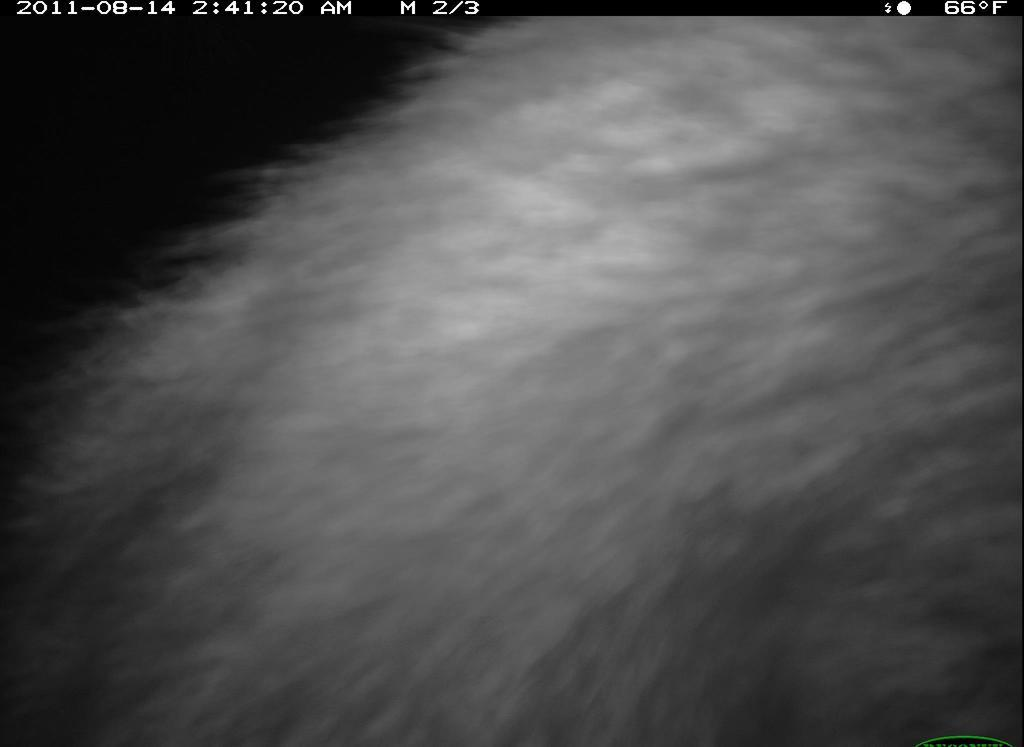raccoon: (12, 13, 1017, 747)
